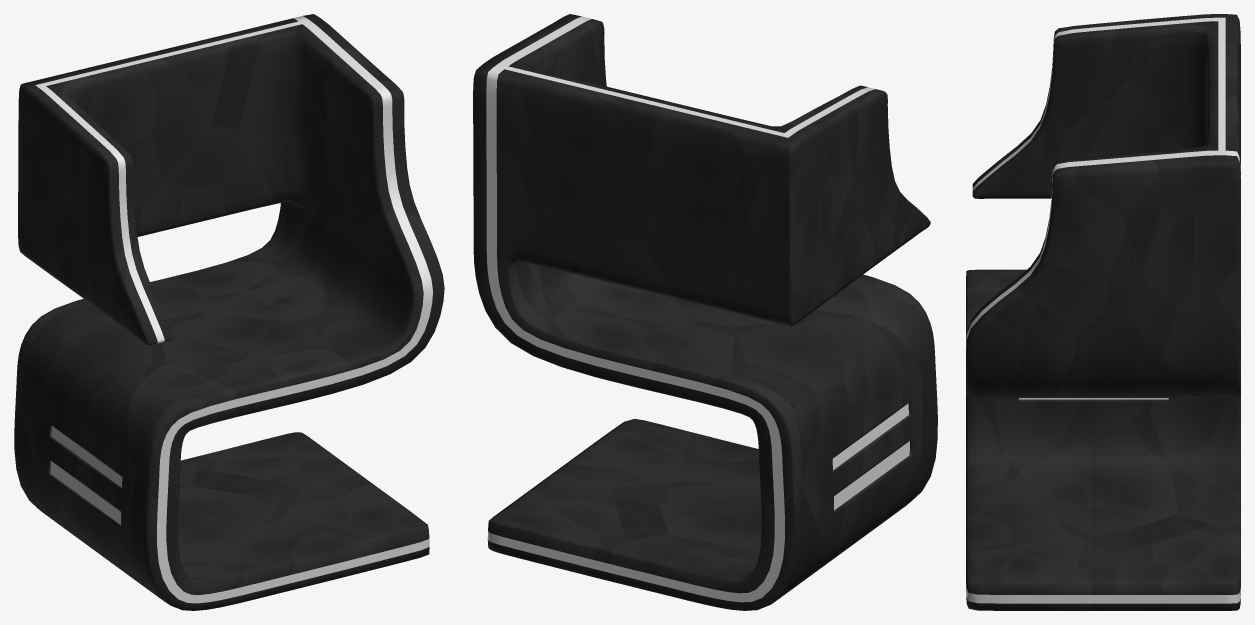
The model's file is chair1.fbx.
3 renders of one model, left to right at view 1: azimuth 30°, elevation 25°; view 2: azimuth 150°, elevation 25°; view 3: azimuth 270°, elevation 25°, orthographic. The views are drawn at different scales.
Visible parts, largest first — view 1: chair1; view 2: chair1; view 3: chair1.
Boxes of the visible parts, x1=… form: chair1: x1=14, y1=14, x2=444, y2=610; chair1: x1=473, y1=14, x2=937, y2=610; chair1: x1=966, y1=14, x2=1240, y2=610.
Bounding box in the file's own units: 140 × 198 × 107.
